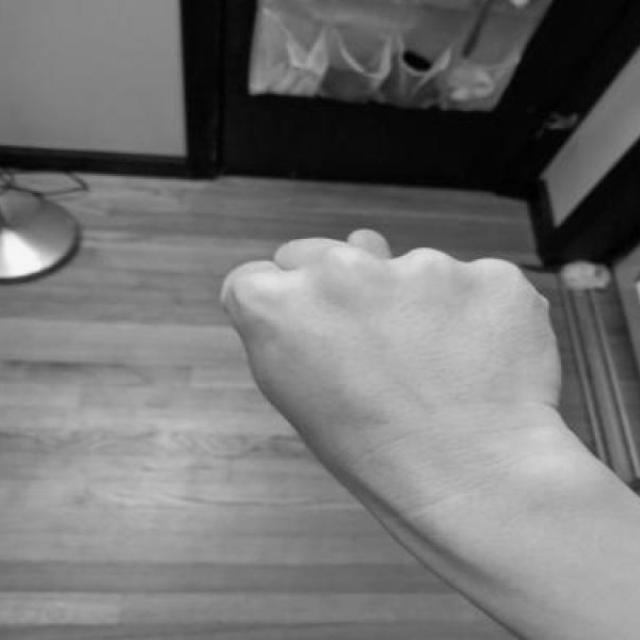N: (208, 208, 640, 530)
